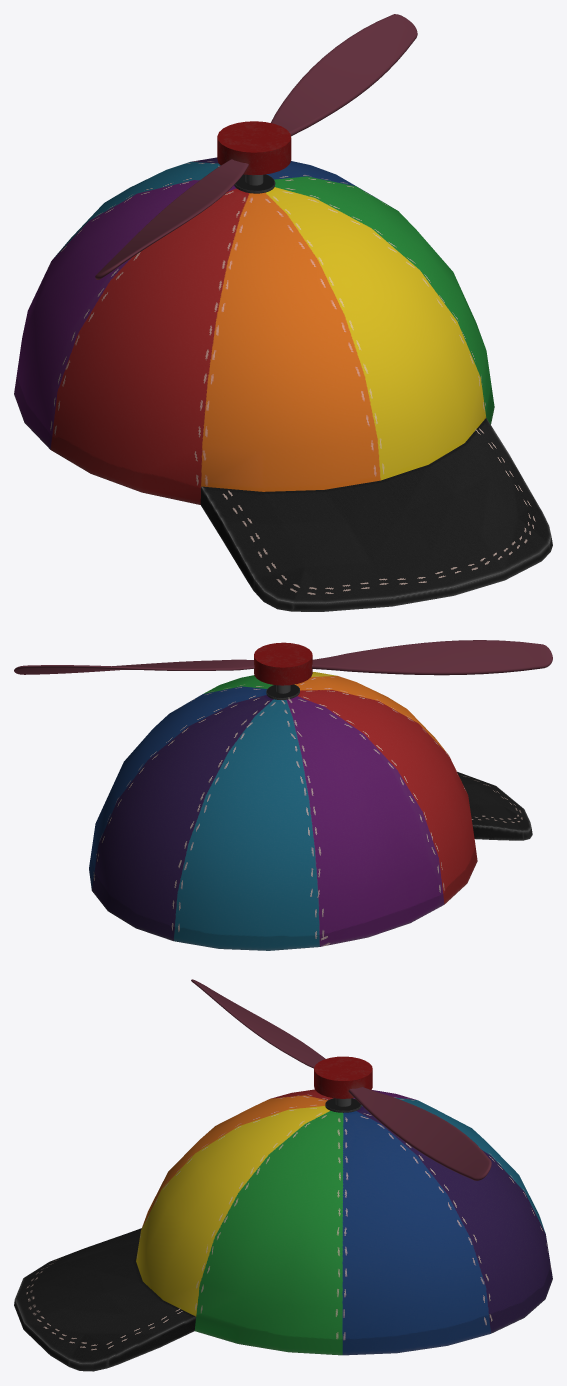
File: hat.glb
The picture shows the model from 3 angles, top to bottom: view 1: azimuth 30°, elevation 25°; view 2: azimuth 150°, elevation 25°; view 3: azimuth 270°, elevation 25°; orthographic projection. The views are drawn at different scales.
Parts seen in each view (by area): view 1: Hat, Propeller; view 2: Hat, Propeller; view 3: Hat, Propeller.
Boxes of the visible parts, <box> form: Hat: <box>14,121,552,611</box>; Propeller: <box>95,14,417,279</box>; Hat: <box>89,642,532,950</box>; Propeller: <box>14,640,552,675</box>; Hat: <box>14,1056,552,1371</box>; Propeller: <box>191,979,491,1180</box>.
Size of the model in its own units: 2.61 by 1.61 by 3.1.
Materials: 1 (1 with a texture image).
